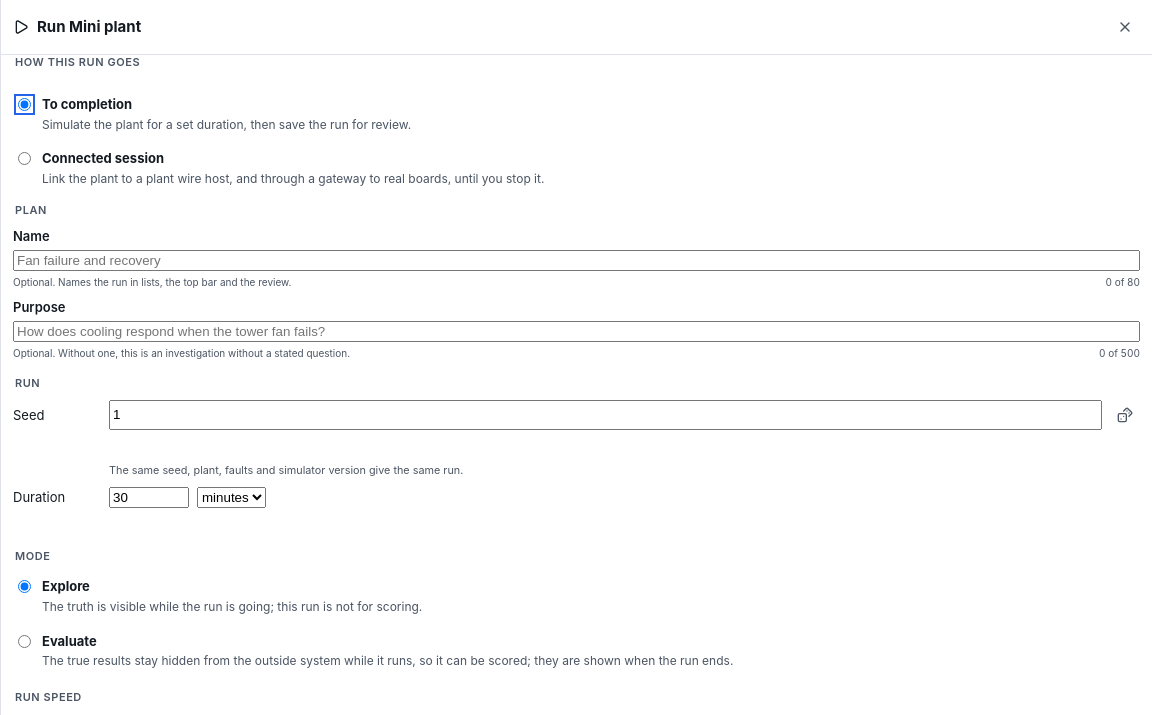
a running connected session in the run panel › shows a gateway the binary refused, marks its real boards not bound, and says the next step
Click the radio button labelled "Connected session" at (24, 159), box [18,152,31,165]
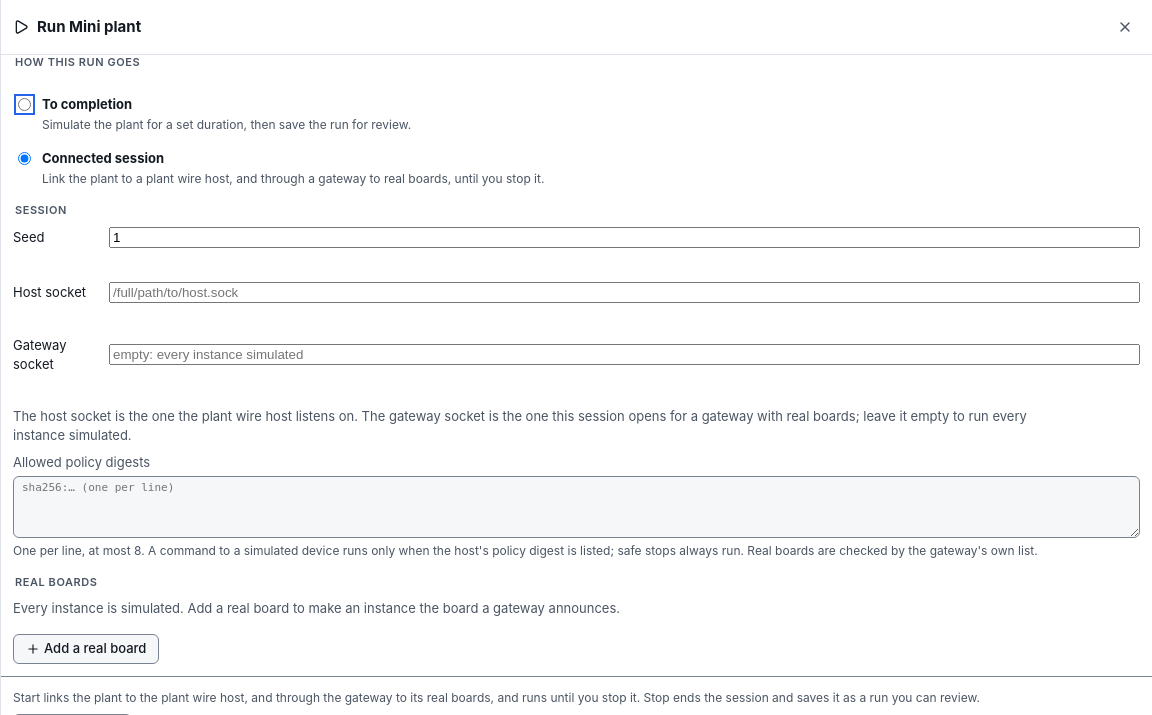
Type "/tmp/h.sock" into the field labelled "Host socket" at (624, 292), box [109,282,1140,303]
Type "/tmp/g.sock" into the field labelled "Gateway socket" at (624, 355), box [109,344,1140,366]
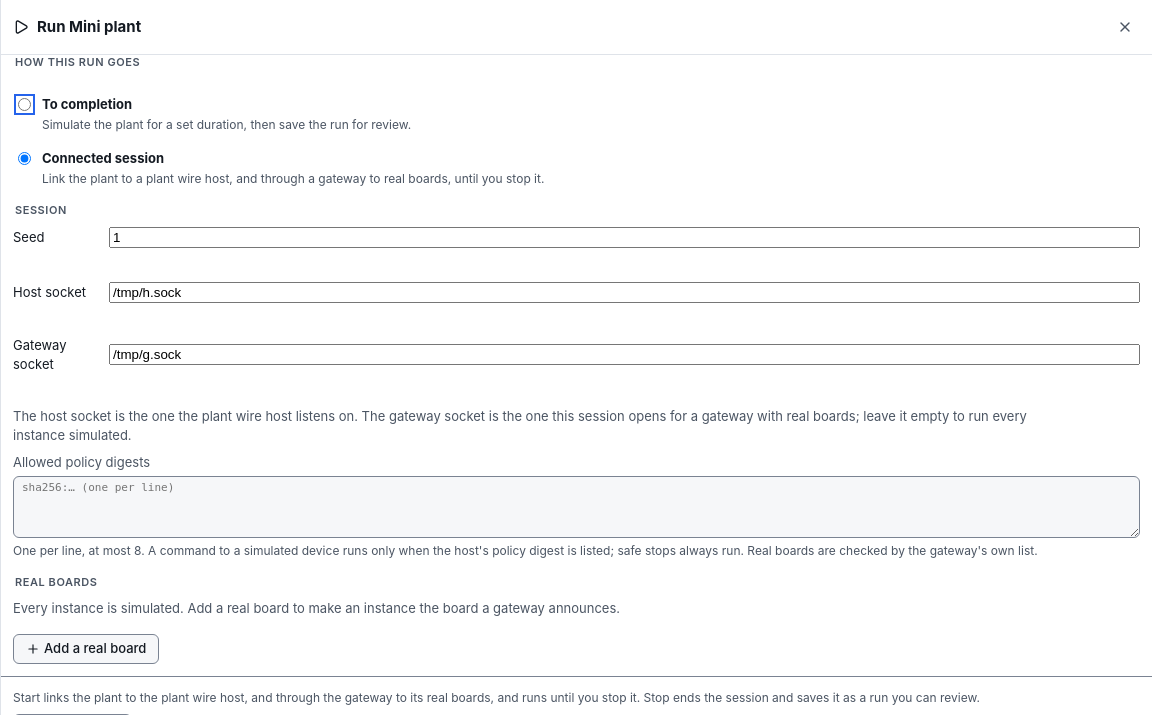
Click the button "Add a real board" at (86, 649), box [13,634,159,664]
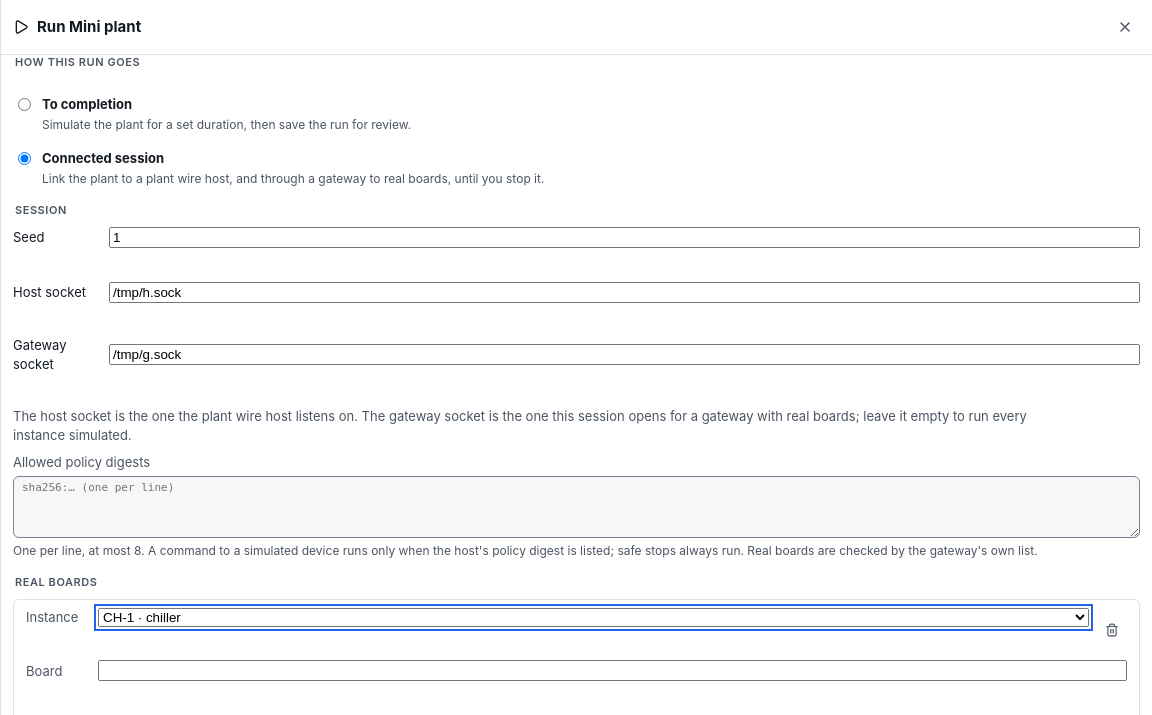
Type "uno-07" into the field named "Real board 1 board" at (612, 671), box [98,660,1127,682]
(page scrolled)
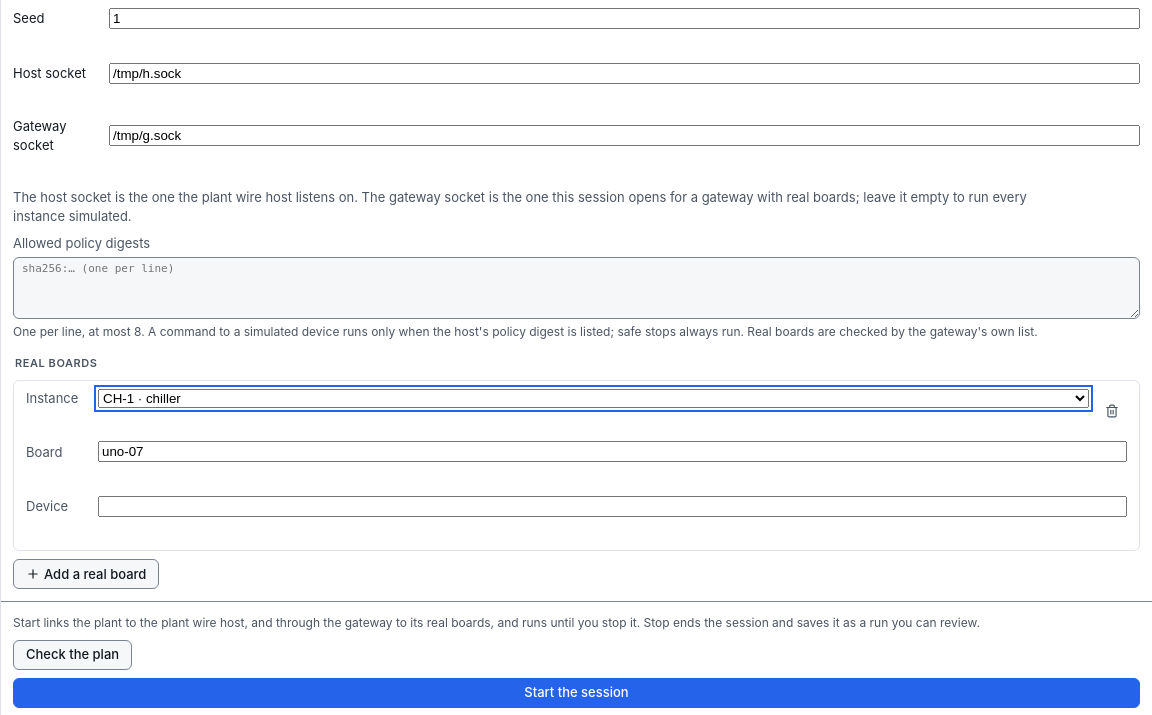
Type "ch-1" into the field named "Real board 1 device" at (612, 506), box [98,496,1127,517]
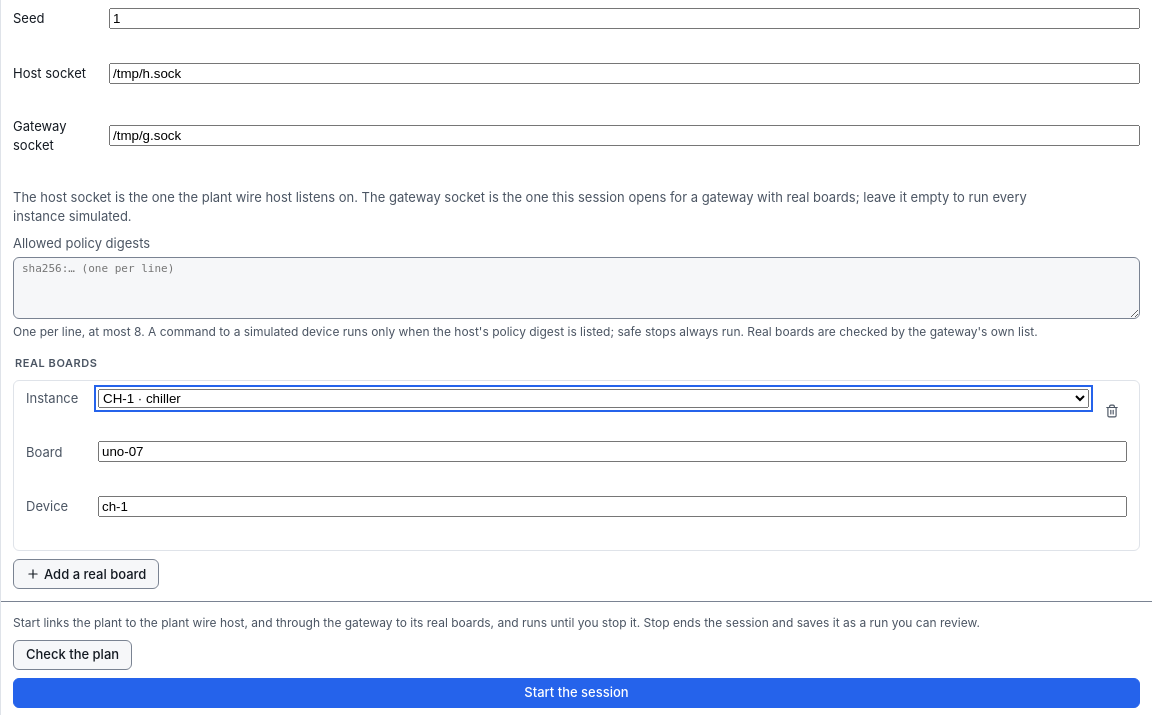
Click the button "Start the session" at (576, 693), box [13,678,1140,708]
(page scrolled)
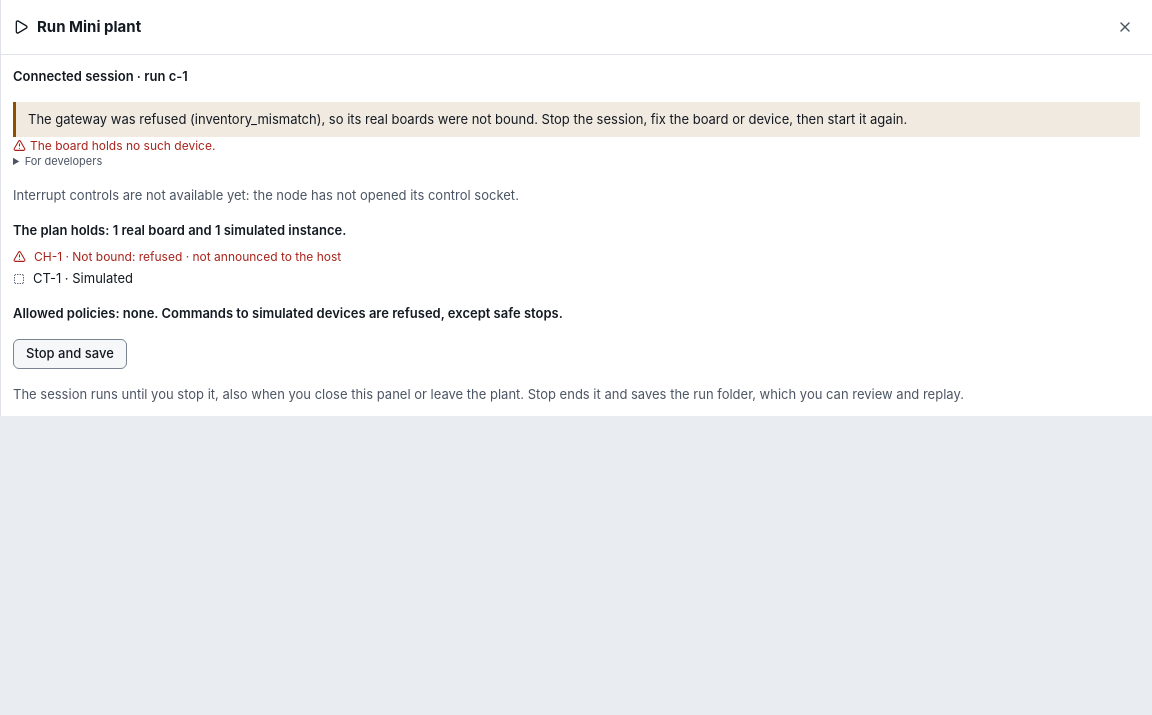
Expected: the text "Connected session · run c-1" is shown, [13,68,188,84]
Expected: the 2nd message reads "The gateway was refused (inventory_mismatch), so its real boards were not bound.", [28,111,907,127]
Expected: the 2nd message shows "Stop the session, fix the board or device, then start it again.", [28,111,907,127]
